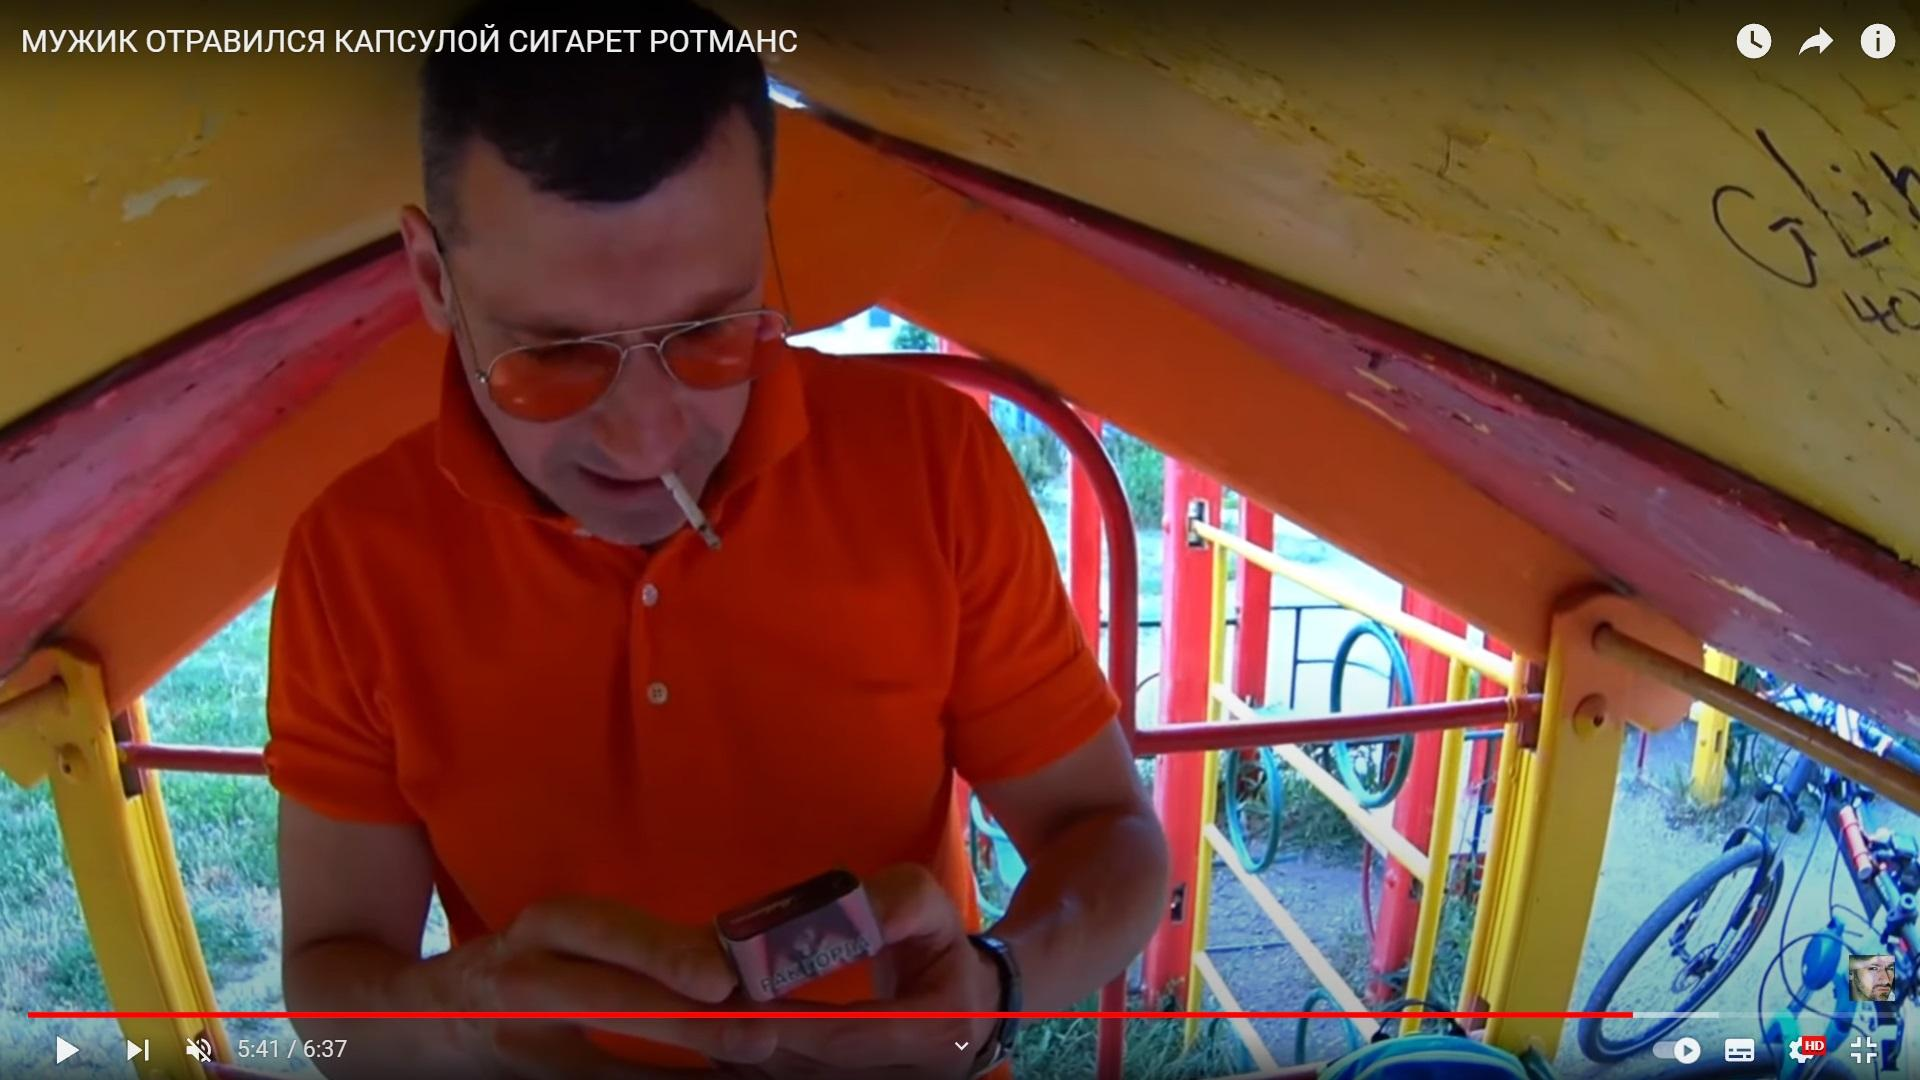cigarette: (659, 471, 720, 549)
